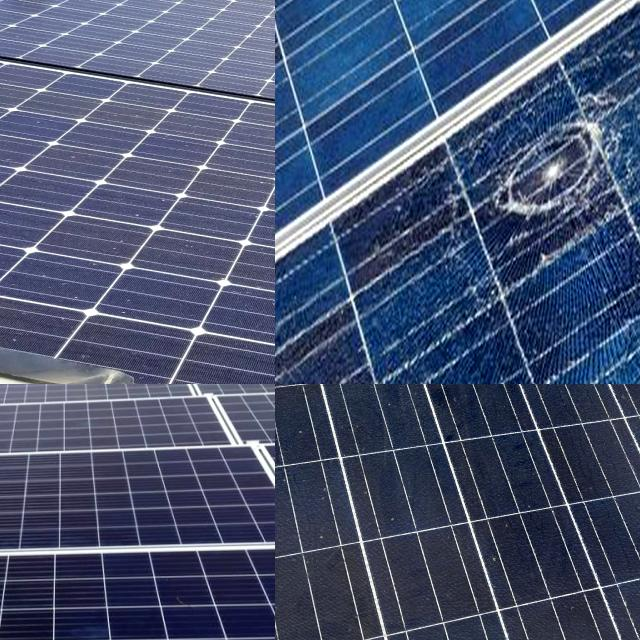crack: (0, 445, 275, 566), (0, 551, 275, 640), (0, 387, 274, 456), (193, 388, 275, 455), (0, 384, 147, 420), (0, 384, 209, 397), (180, 384, 275, 407)
dust: (299, 463, 504, 615), (405, 384, 625, 486), (510, 384, 640, 503), (275, 384, 430, 454), (275, 384, 375, 471), (592, 549, 640, 640)
hotspot: (485, 96, 633, 260)
